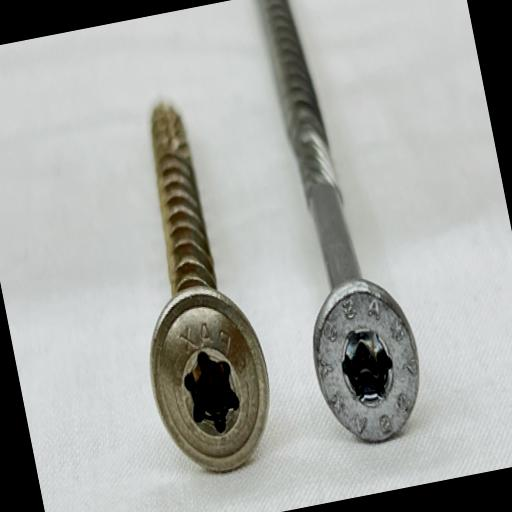Hex-Allen: (300, 268, 434, 454)
